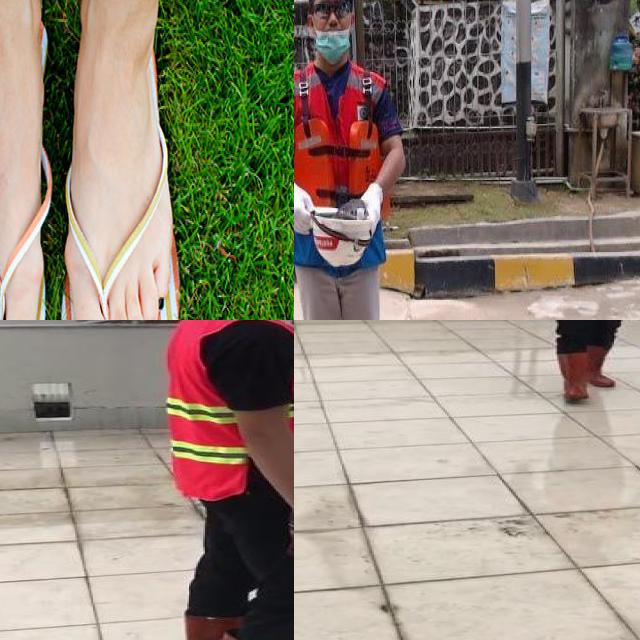Sandals: (0, 0, 225, 320)
boots: (555, 352, 591, 401), (182, 613, 239, 640), (589, 349, 618, 389)
head_helmet: (310, 202, 372, 273)
person: (149, 320, 294, 640), (294, 0, 426, 320), (510, 320, 640, 403)
vest: (167, 320, 294, 500), (294, 62, 389, 269)
